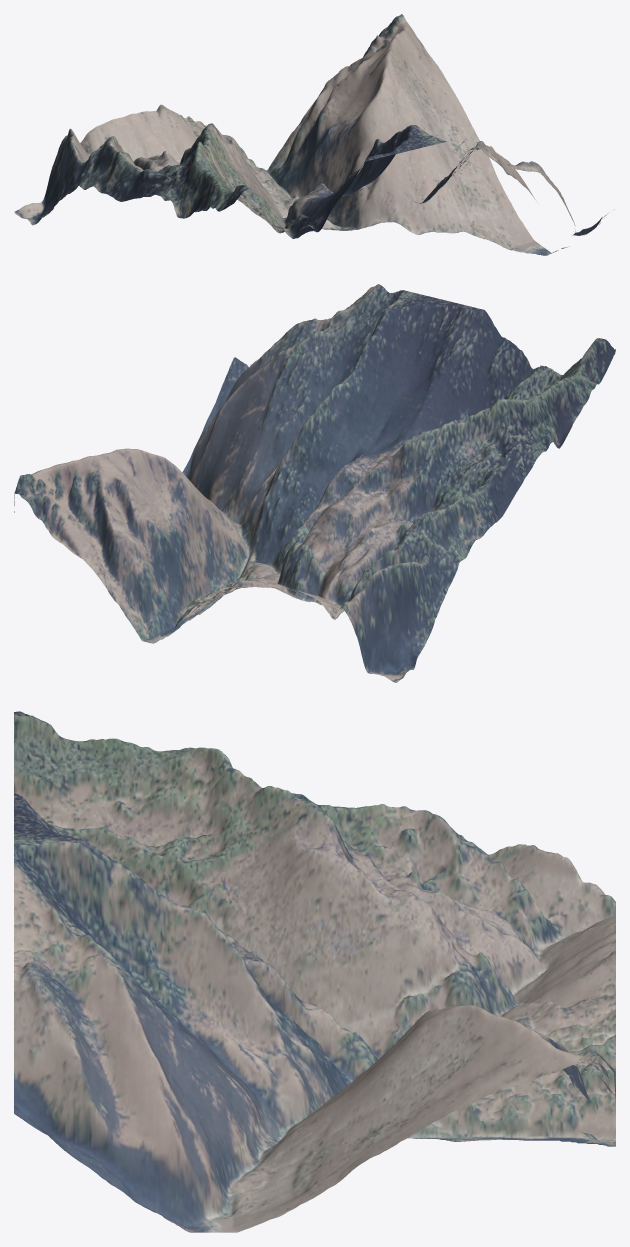
File: dsm_8029f769aa_mesh.glb
3 views of the same model, one above another, from view 1: azimuth 30°, elevation 25°; view 2: azimuth 150°, elevation 25°; view 3: azimuth 270°, elevation 25° (orthographic). The views are drawn at different scales.
Visible parts, largest first — view 1: geometry_0; view 2: geometry_0; view 3: geometry_0.
Part boxes in pixels (x1,y1,x2,y2): geometry_0: (14,14,614,255); geometry_0: (14,284,615,682); geometry_0: (14,711,615,1232).
Size of the model in its own units: 2 by 1 by 2.
